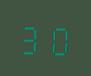three: (19, 19, 44, 55)
zero: (45, 20, 70, 56)
